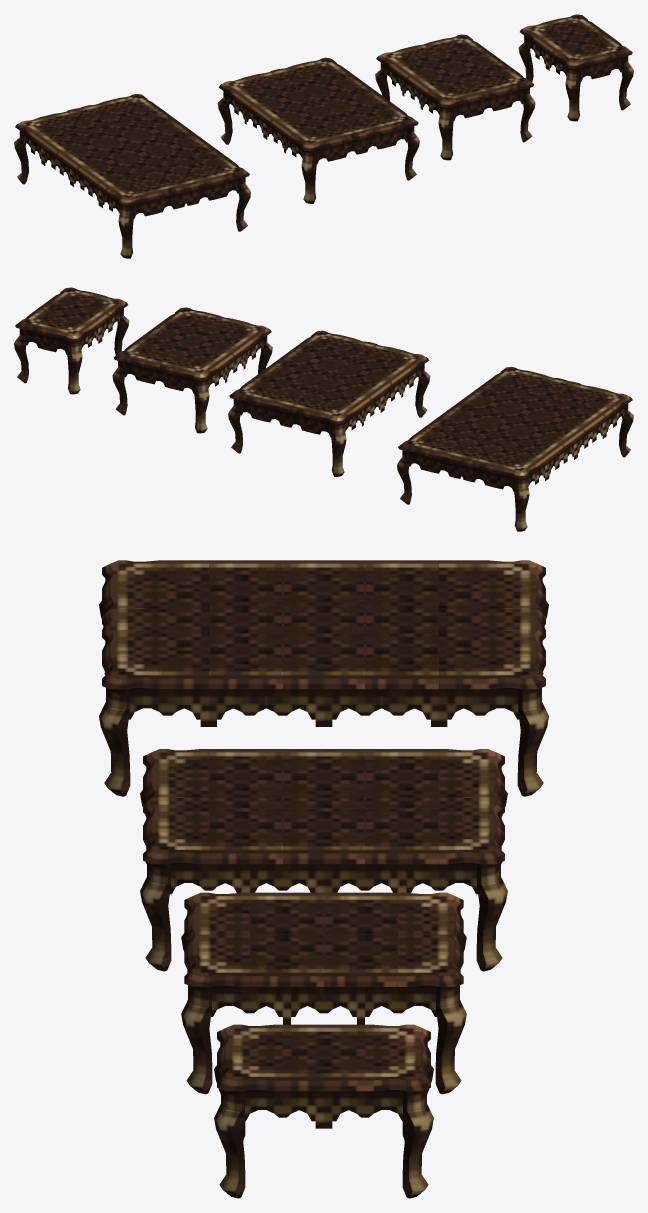
Rendered from EnvObjMD_Table_Luxury_B_2W1D.FBX.
3 renders of one model, top to bottom at view 1: azimuth 30°, elevation 25°; view 2: azimuth 150°, elevation 25°; view 3: azimuth 270°, elevation 25°, orthographic. The views are drawn at different scales.
Visible parts, largest first — view 1: EnvObjMD_Table_Luxury_B_3W2D, EnvObjMD_Table_Luxury_B_2W2D, EnvObjMD_Table_Luxury_B_2W1D, EnvObjMD_Table_Luxury_B; view 2: EnvObjMD_Table_Luxury_B_3W2D, EnvObjMD_Table_Luxury_B_2W2D, EnvObjMD_Table_Luxury_B_2W1D, EnvObjMD_Table_Luxury_B; view 3: EnvObjMD_Table_Luxury_B_3W2D, EnvObjMD_Table_Luxury_B_2W2D, EnvObjMD_Table_Luxury_B_2W1D, EnvObjMD_Table_Luxury_B.
Boxes of the visible parts, x1=… form: EnvObjMD_Table_Luxury_B_3W2D: x1=14, y1=94, x2=250, y2=258; EnvObjMD_Table_Luxury_B_2W2D: x1=217, y1=57, x2=419, y2=203; EnvObjMD_Table_Luxury_B_2W1D: x1=375, y1=34, x2=535, y2=160; EnvObjMD_Table_Luxury_B: x1=518, y1=14, x2=633, y2=121; EnvObjMD_Table_Luxury_B_3W2D: x1=397, y1=367, x2=633, y2=531; EnvObjMD_Table_Luxury_B_2W2D: x1=228, y1=330, x2=430, y2=476; EnvObjMD_Table_Luxury_B_2W1D: x1=112, y1=307, x2=272, y2=433; EnvObjMD_Table_Luxury_B: x1=14, y1=287, x2=129, y2=394; EnvObjMD_Table_Luxury_B_3W2D: x1=99, y1=560, x2=548, y2=796; EnvObjMD_Table_Luxury_B_2W2D: x1=140, y1=749, x2=507, y2=971; EnvObjMD_Table_Luxury_B_2W1D: x1=181, y1=892, x2=466, y2=1094; EnvObjMD_Table_Luxury_B: x1=214, y1=1024, x2=433, y2=1198.
Size of the model in its own units: 762 by 80 by 274.
